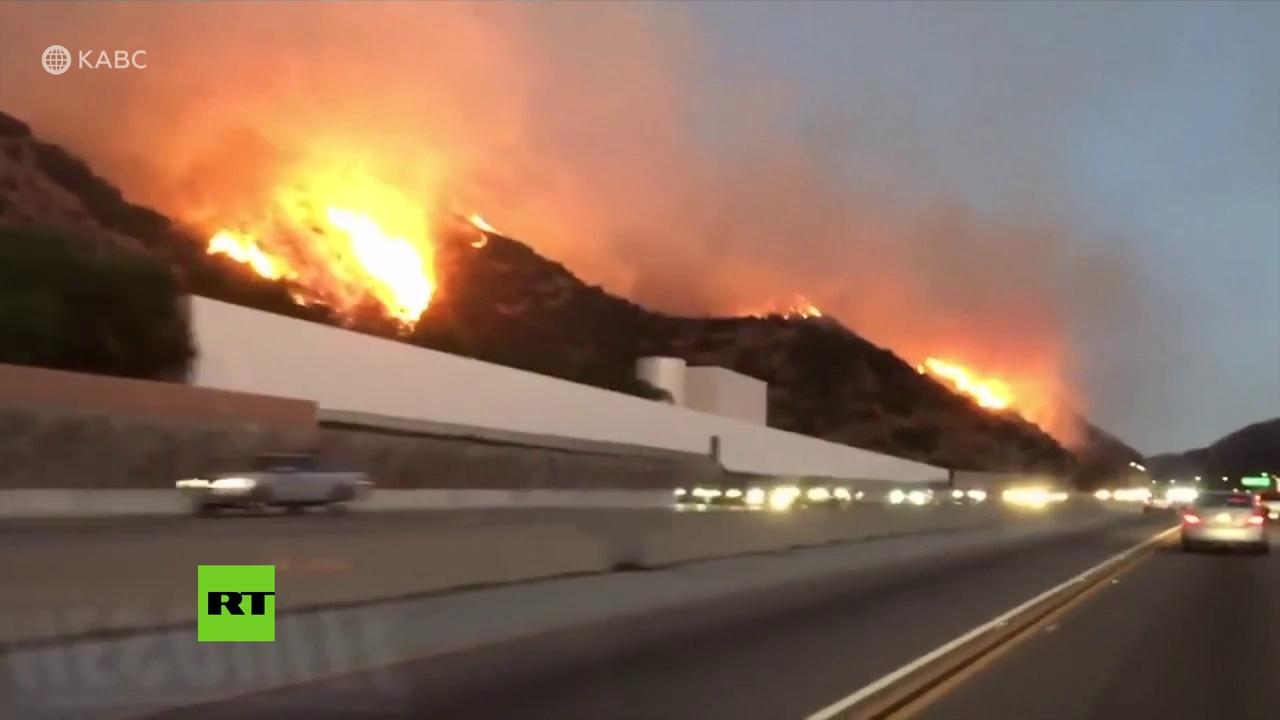Fire: (212, 169, 444, 326), (919, 361, 1015, 411), (471, 210, 495, 248), (798, 300, 821, 321)
